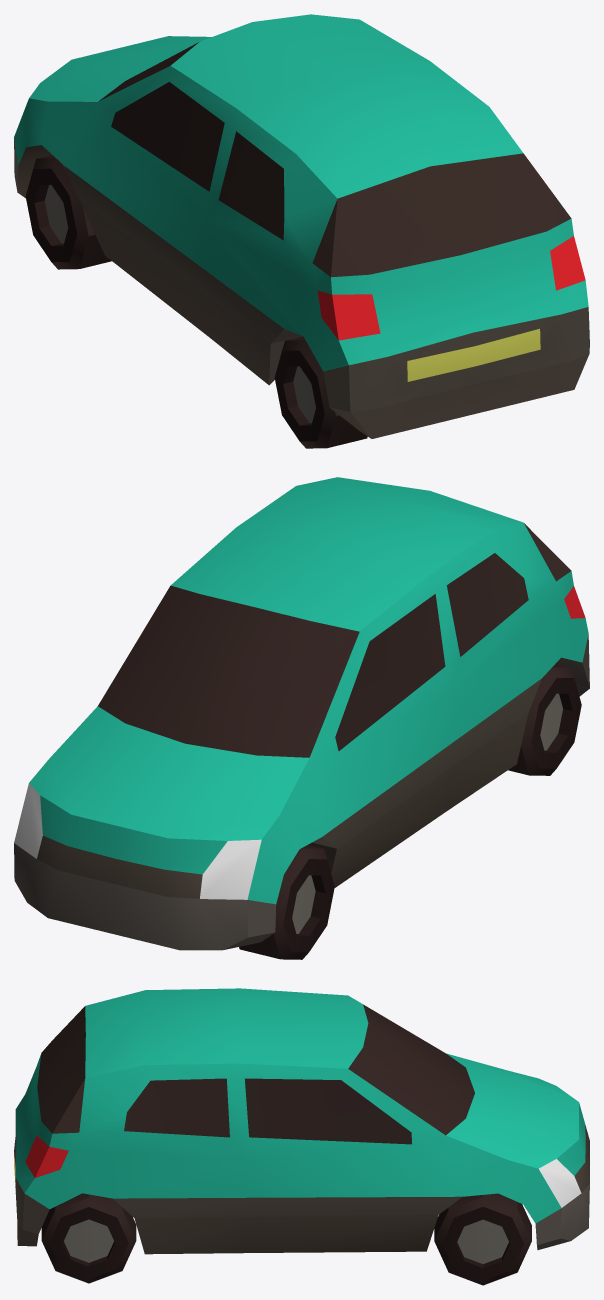
Rendered from ShibuyaCar1b.obj.
3 renders of one model, top to bottom at view 1: azimuth 30°, elevation 25°; view 2: azimuth 150°, elevation 25°; view 3: azimuth 270°, elevation 25°, orthographic. The views are drawn at different scales.
Parts seen in each view (by area): view 1: Car_Carrosserie, Car_Base; view 2: Car_Carrosserie, Car_Base; view 3: Car_Carrosserie, Car_Base.
Part boxes in pixels (x1,y1,x2,y2): Car_Carrosserie: [14, 14, 588, 371]; Car_Base: [14, 42, 589, 448]; Car_Carrosserie: [29, 477, 588, 904]; Car_Base: [14, 523, 589, 959]; Car_Carrosserie: [15, 988, 585, 1223]; Car_Base: [14, 1004, 589, 1285].
Size of the model in its own units: 1.94 by 1.98 by 4.67.
1 material, 1 textured.
